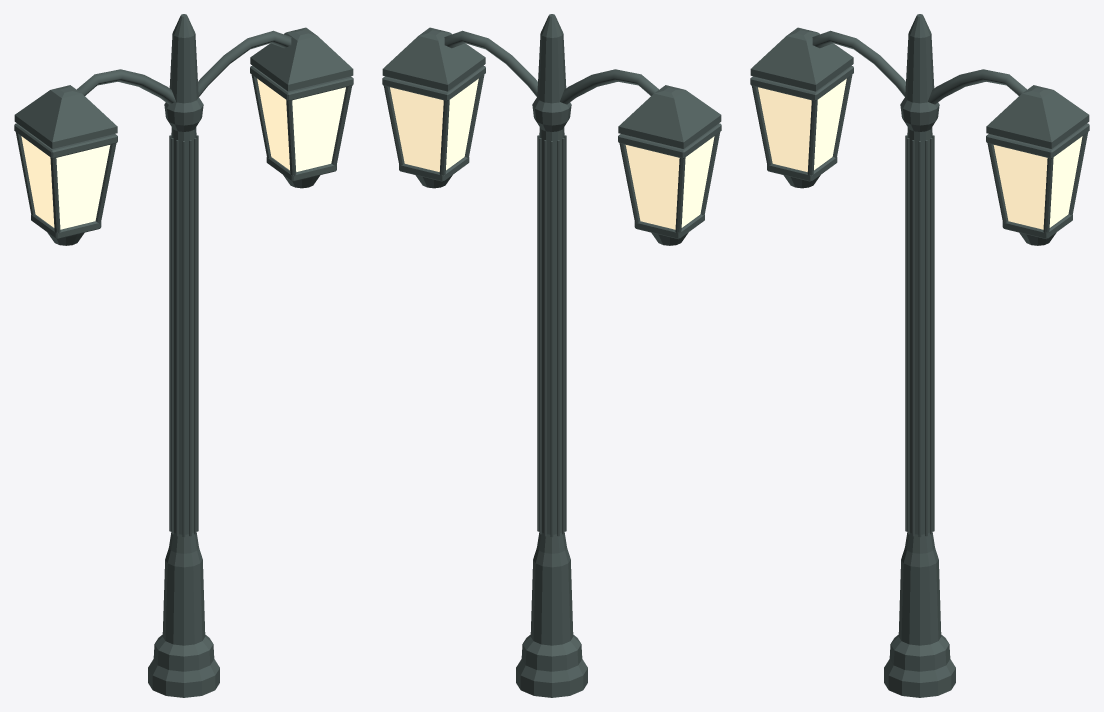
The model's file is heritage-lamp.lod0.glb.
The picture shows the model from 3 angles, left to right: view 1: azimuth 30°, elevation 25°; view 2: azimuth 150°, elevation 25°; view 3: azimuth 330°, elevation 25°; orthographic projection.
Visible parts, largest first — view 1: metal, diffuser; view 2: metal, diffuser; view 3: metal, diffuser.
Part boxes in pixels (box(x1,y1,x2,y2)): metal: box(14, 14, 353, 697); diffuser: box(21, 78, 345, 229); metal: box(382, 14, 721, 697); diffuser: box(390, 78, 714, 229); metal: box(750, 14, 1089, 697); diffuser: box(758, 78, 1082, 229).
Bounding box in the file's own units: 2.13 × 4.49 × 0.47.
